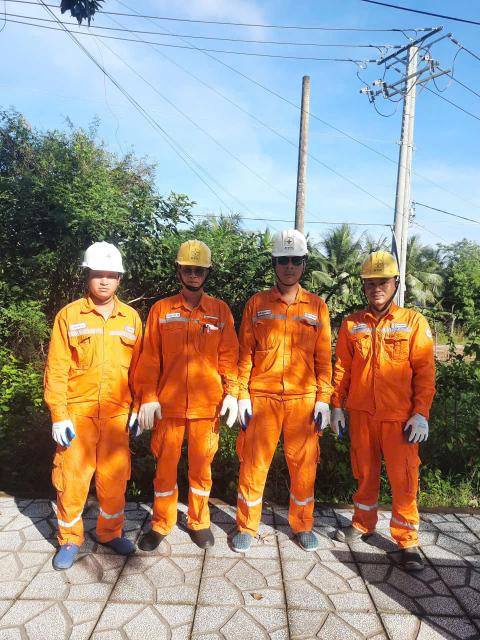gloves: (40, 418, 84, 447), (134, 388, 163, 432), (405, 408, 432, 449), (210, 393, 239, 429), (123, 399, 145, 440), (232, 391, 253, 431), (328, 401, 348, 439), (309, 401, 331, 432)
helmet: (78, 239, 136, 282), (265, 225, 319, 268), (351, 248, 408, 282), (163, 238, 222, 270)
shoes: (332, 516, 378, 554), (46, 530, 86, 573), (129, 515, 172, 554), (185, 516, 225, 553), (94, 526, 136, 560), (228, 519, 264, 558), (396, 538, 428, 579), (291, 520, 322, 550)
